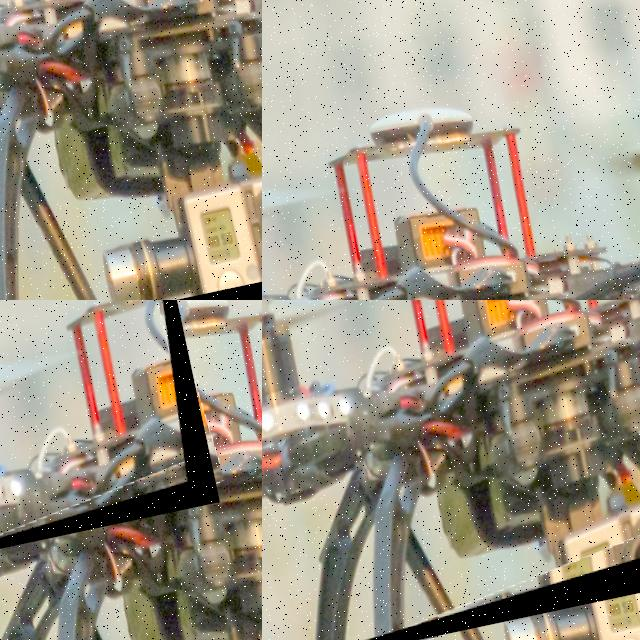drone: (262, 300, 640, 640), (0, 300, 219, 571)
